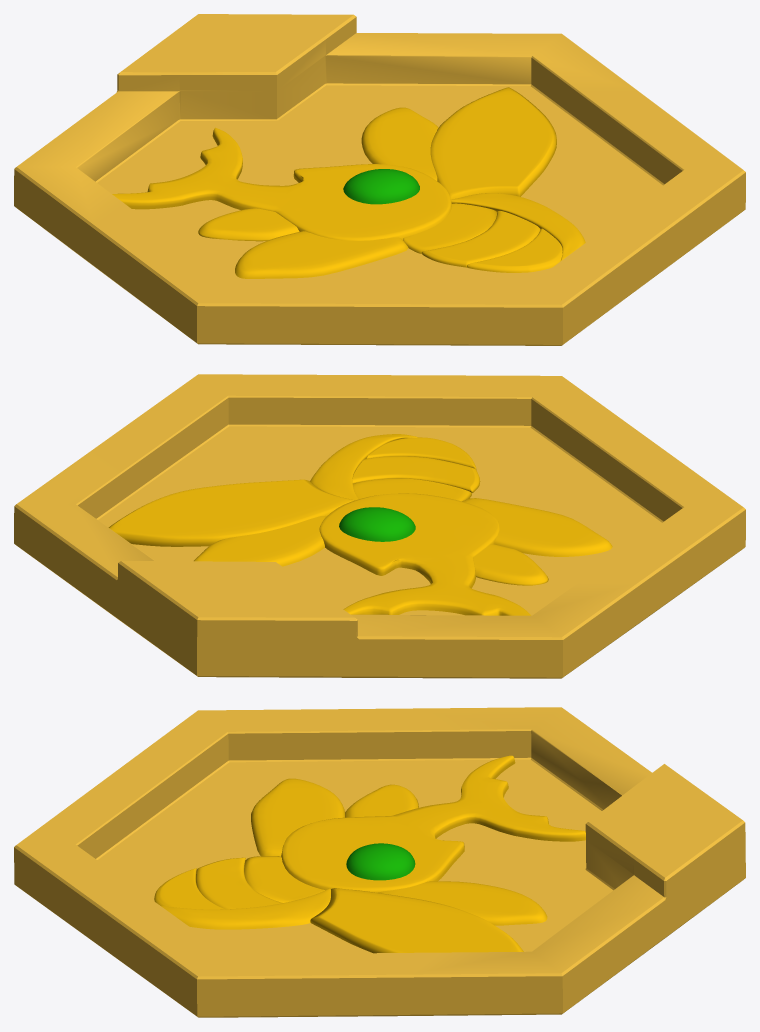
Rendered from kabuto.glb.
3 renders of one model, top to bottom at view 1: azimuth 30°, elevation 25°; view 2: azimuth 150°, elevation 25°; view 3: azimuth 270°, elevation 25°, orthographic.
Visible parts, largest first — view 1: Medalobjcleaner; view 2: Medalobjcleaner; view 3: Medalobjcleaner.
Part boxes in pixels (x1,y1,x2,y2): Medalobjcleaner: (14, 14, 745, 345); Medalobjcleaner: (14, 374, 745, 678); Medalobjcleaner: (14, 707, 745, 1017).
Bounding box in the file's own units: 139 × 15.97 × 160.
